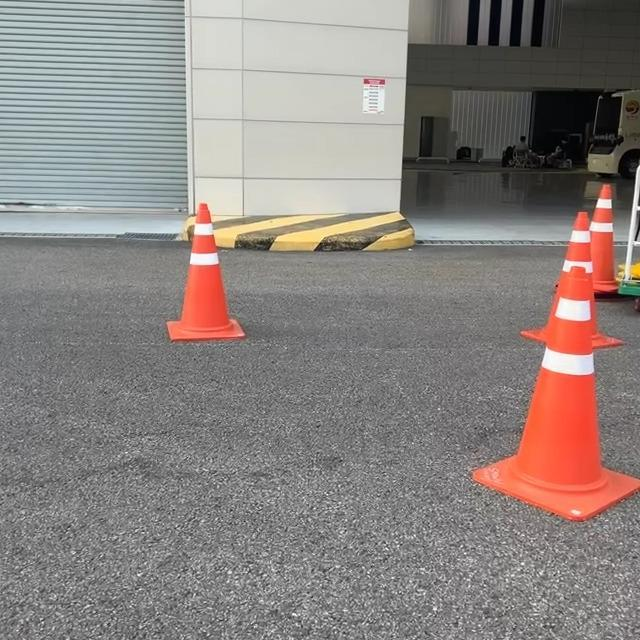fallen_object: (477, 226, 628, 516), (143, 182, 274, 387), (530, 157, 634, 355)
